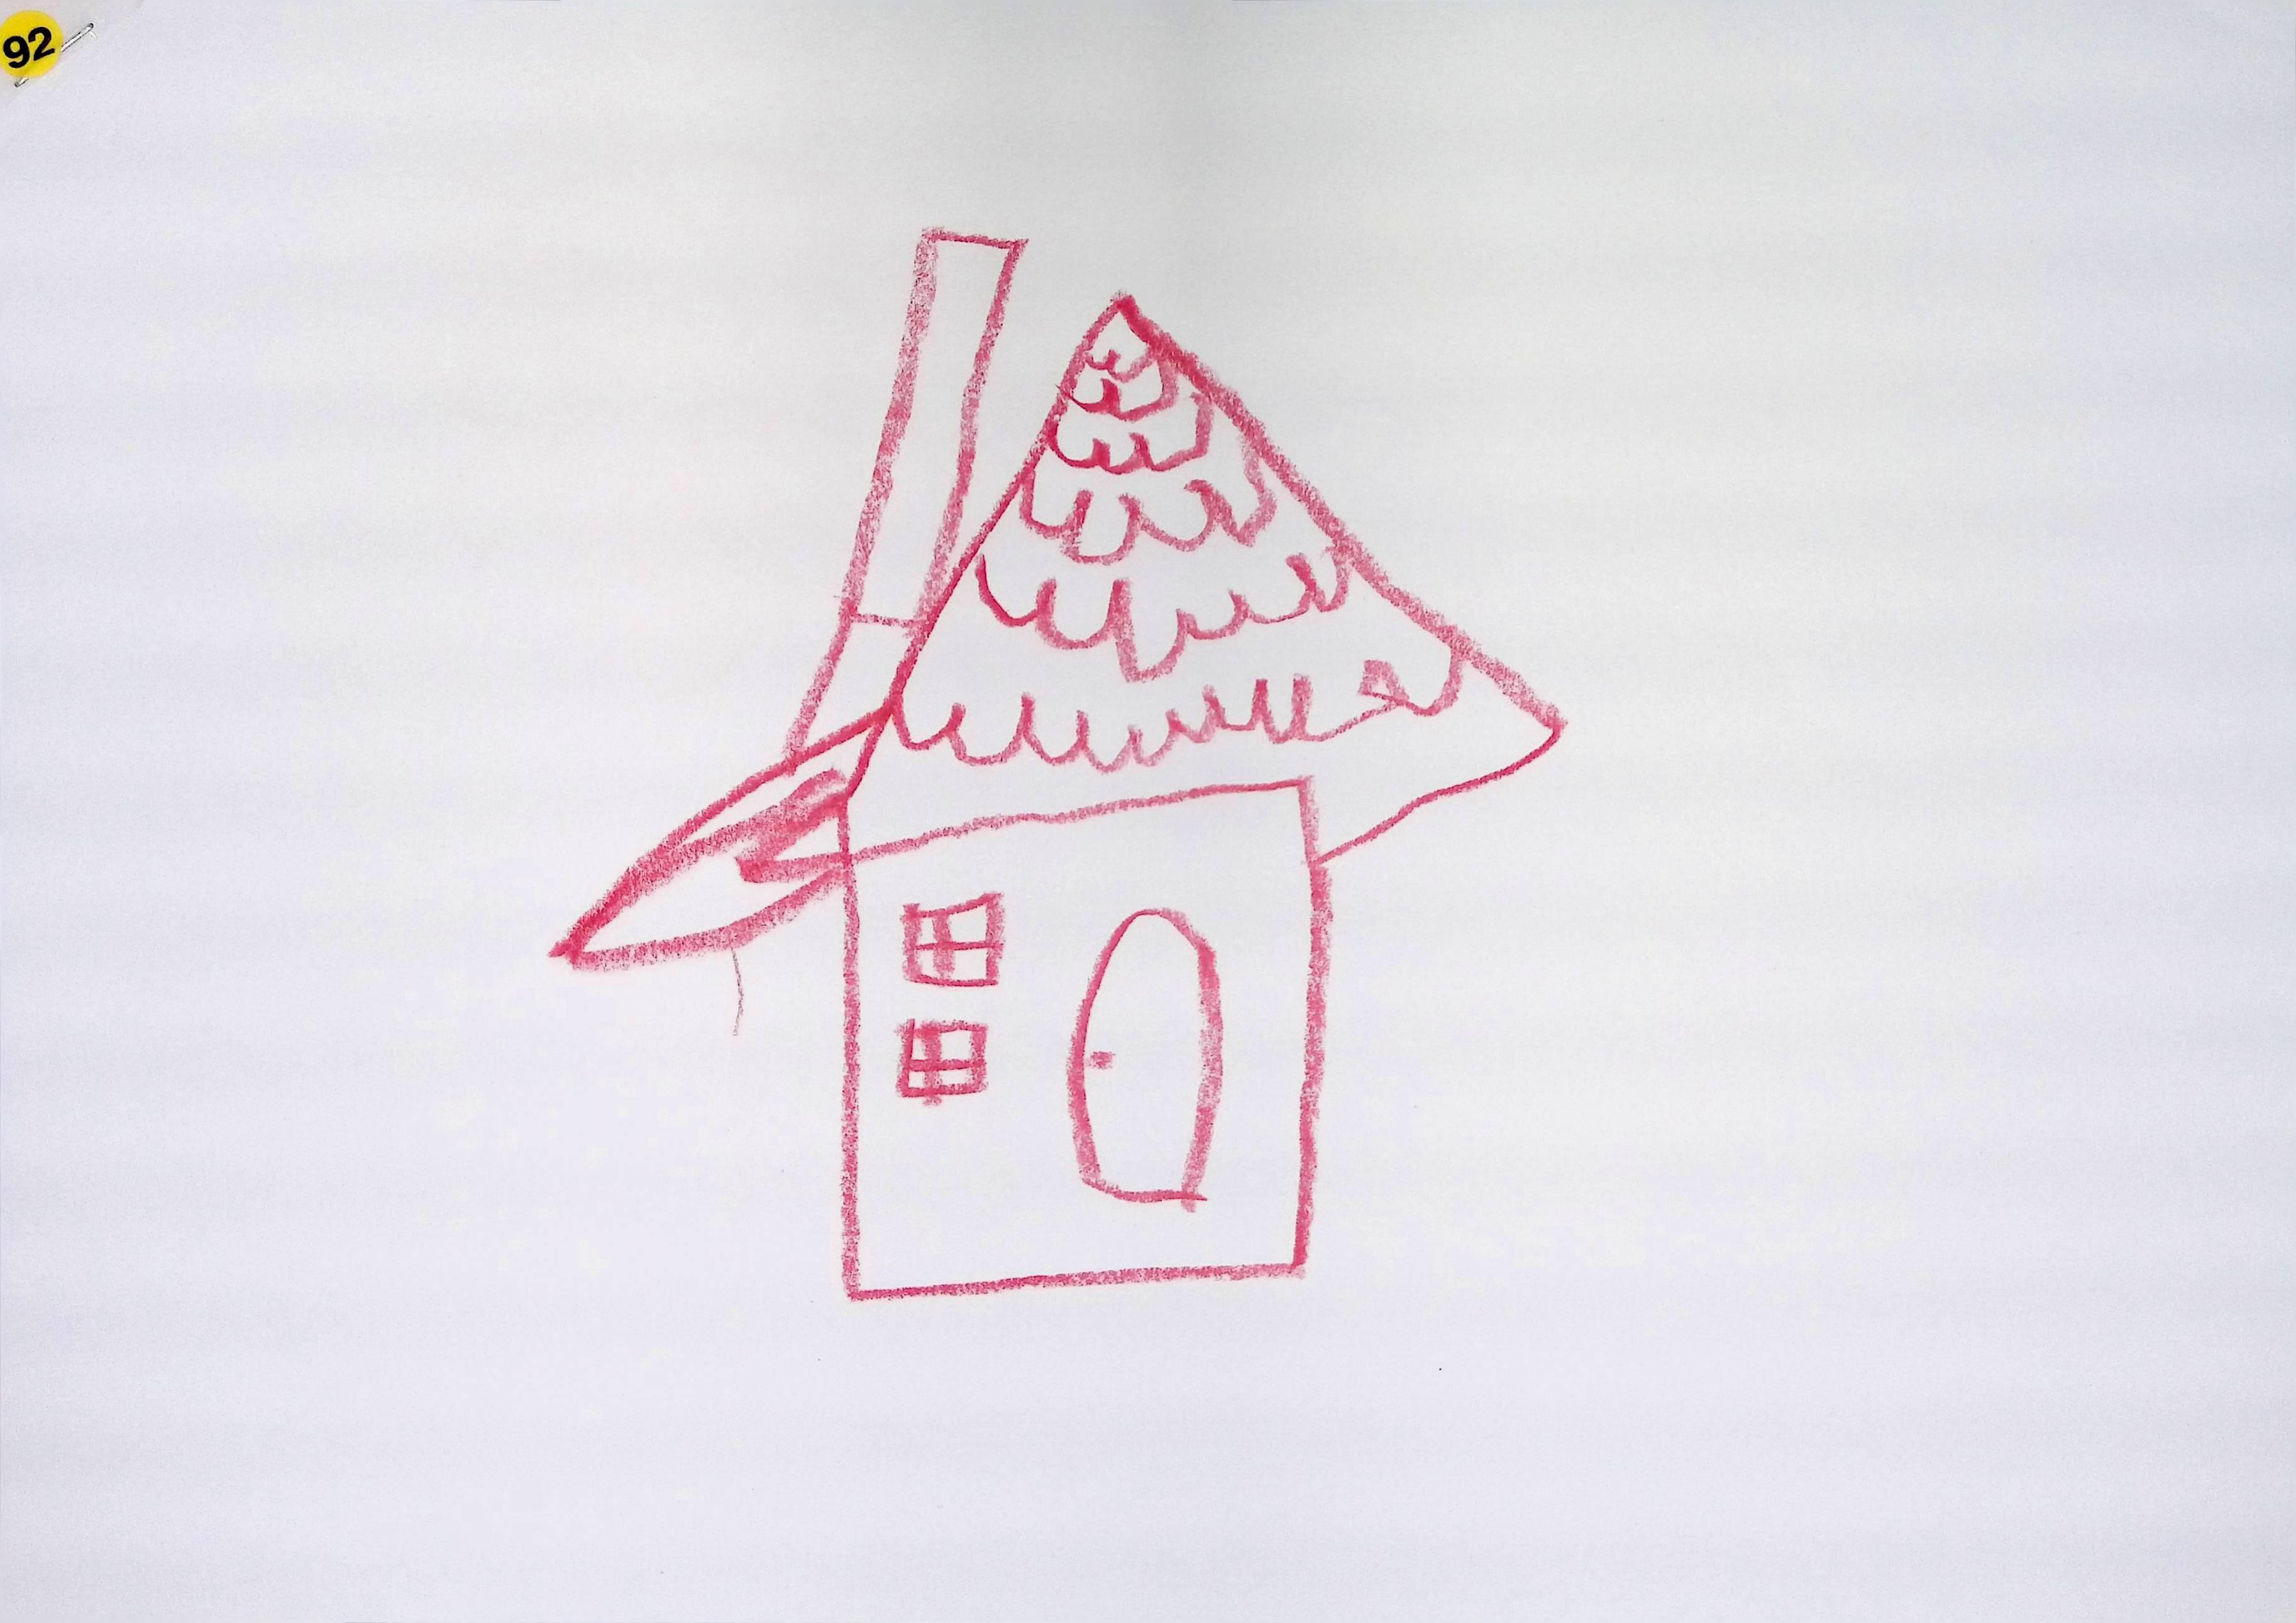chimney: (785, 225, 1024, 752)
door: (1084, 910, 1203, 1191)
house: (555, 227, 1563, 1298)
roof: (848, 293, 1563, 861)
wall: (845, 780, 1326, 1300)
window: (903, 892, 1003, 987), (896, 1019, 986, 1103)
